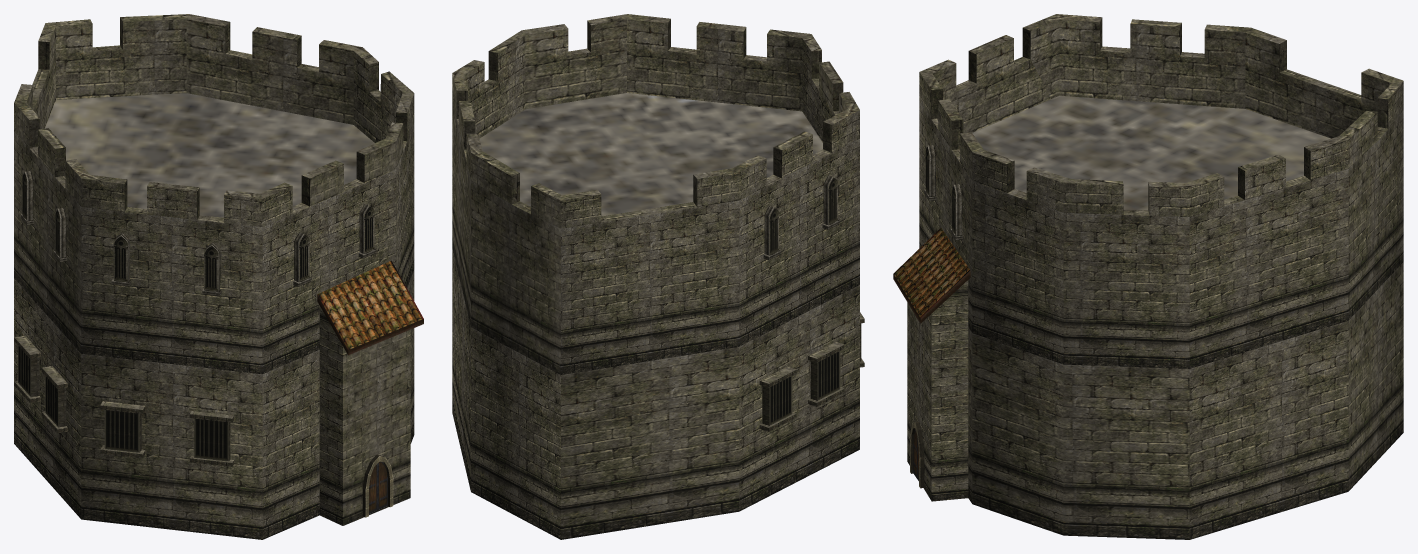
Rendered from shijieditu_05.FBX.
3 views of the same model, side by side, from view 1: azimuth 30°, elevation 25°; view 2: azimuth 150°, elevation 25°; view 3: azimuth 270°, elevation 25° (orthographic). The views are drawn at different scales.
Visible parts, largest first — view 1: shijieditu_05; view 2: shijieditu_05; view 3: shijieditu_05.
Part boxes in pixels (bbox=[...]): shijieditu_05: bbox=[14, 14, 423, 539]; shijieditu_05: bbox=[452, 14, 864, 539]; shijieditu_05: bbox=[893, 14, 1403, 539].
Bounding box in the file's own units: 22.23 × 20.77 × 27.23.
